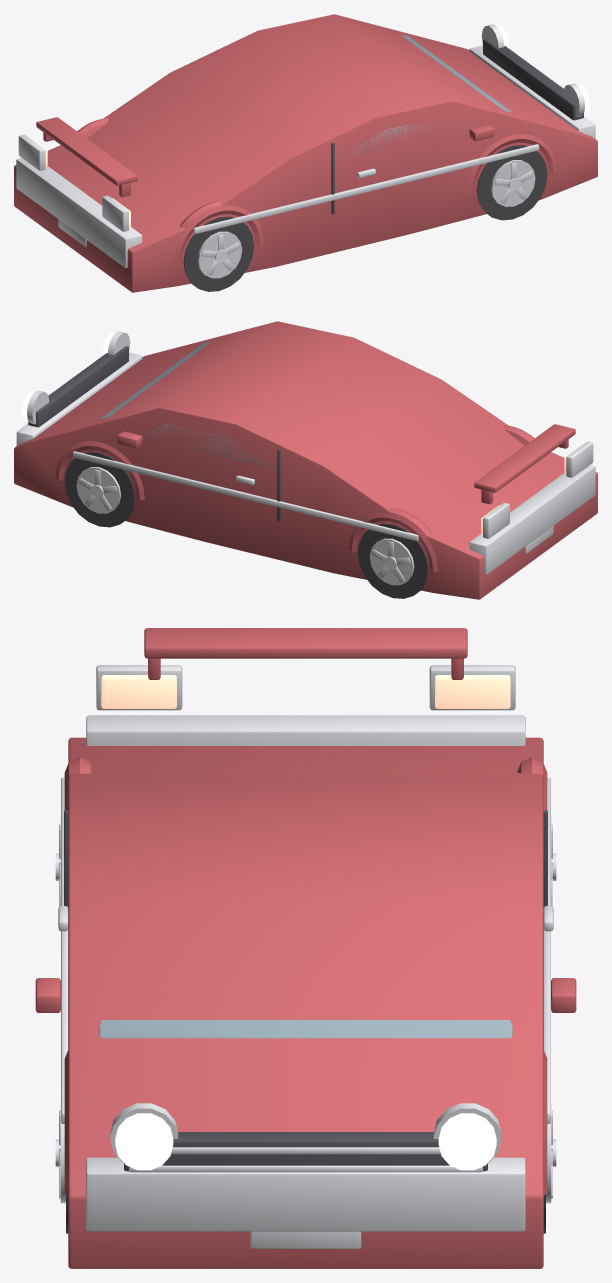
The model's file is th37_sportwagen.glb.
3 views of the same model, one above another, from view 1: azimuth 30°, elevation 25°; view 2: azimuth 150°, elevation 25°; view 3: azimuth 270°, elevation 25° (orthographic). The views are drawn at different scales.
Parts seen in each view (by area): view 1: Karosse, Cube.050, Cube.020, Cylinder, Cylinder.007, Cube.060, Cube.046, Radlauf, Cube.051, Cylinder.001, Cylinder.008, Radlauf.001 (+5 smaller); view 2: Karosse, Cube.050, Cube.043, Cylinder.014, Cylinder.021, Cube.060, Cube.046, Radlauf.002, Cube.051, Cylinder.017, Cylinder.024, Radlauf.003 (+5 smaller); view 3: Karosse, Cube.051, Cube.050, Cube.060, Frontscheibe, Cube.046, Cylinder.028, Cylinder.030, Cube.048, Cube.052, Cube.054, Cube.049 (+9 smaller).
Part boxes in pixels (x1,y1,x2,y2): Karosse: (14, 14, 597, 292); Cube.050: (16, 158, 142, 267); Cube.020: (193, 144, 539, 234); Cylinder: (183, 216, 254, 291); Cylinder.007: (477, 145, 547, 220); Cube.060: (36, 117, 137, 185); Cube.046: (483, 39, 583, 120); Radlauf: (174, 201, 263, 264); Cube.051: (469, 45, 595, 138); Cylinder.001: (197, 231, 242, 278); Cylinder.008: (491, 160, 535, 206); Radlauf.001: (467, 134, 556, 192); Karosse: (14, 321, 597, 599); Cube.050: (469, 465, 595, 574); Cube.043: (73, 451, 418, 540); Cylinder.014: (357, 523, 428, 598); Cylinder.021: (64, 452, 134, 527); Cube.060: (474, 424, 575, 492); Cube.046: (28, 346, 128, 427); Radlauf.002: (348, 508, 438, 571); Cube.051: (16, 352, 142, 445); Cylinder.017: (369, 538, 414, 585); Cylinder.024: (76, 467, 121, 513); Radlauf.003: (55, 441, 144, 499); Karosse: (68, 737, 543, 1268); Cube.051: (86, 1157, 525, 1231); Cube.050: (86, 715, 525, 745); Cube.060: (144, 628, 467, 658); Frontscheibe: (99, 1020, 512, 1038); Cube.046: (124, 1132, 487, 1171); Cylinder.028: (115, 1113, 173, 1170); Cylinder.030: (438, 1113, 496, 1170); Cube.048: (129, 1165, 482, 1172); Cube.052: (101, 675, 176, 708); Cube.054: (435, 675, 510, 708); Cube.049: (171, 1147, 440, 1154).
Bounding box in the file's own units: 4.31 × 1.18 × 2.14.
